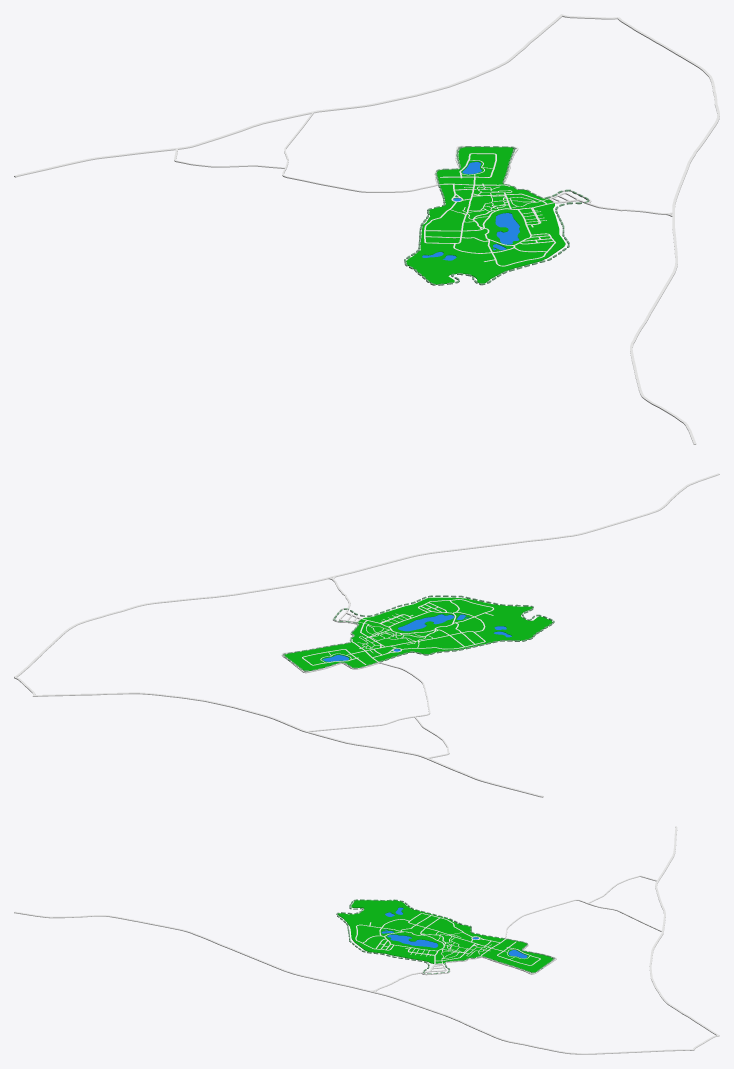
3 renders of one model, top to bottom at view 1: azimuth 30°, elevation 25°; view 2: azimuth 150°, elevation 25°; view 3: azimuth 270°, elevation 25°, orthographic. The views are drawn at different scales.
Parts seen in each view (by area): view 1: green, R8, R4, R2, LK, water, R11; view 2: green, R8, R2, R4, LK, water, R11; view 3: green, R8, R2, LK, R4, water, R11.
Boxes of the visible parts, bbox=[...] form: green: bbox=[406, 147, 565, 284]; R8: bbox=[175, 112, 591, 266]; R4: bbox=[14, 14, 618, 177]; R2: bbox=[617, 17, 719, 444]; LK: bbox=[404, 146, 589, 285]; water: bbox=[422, 162, 519, 260]; R11: bbox=[450, 160, 549, 223]; green: bbox=[284, 597, 552, 670]; R8: bbox=[281, 599, 493, 753]; R2: bbox=[14, 473, 719, 677]; R4: bbox=[14, 677, 543, 797]; LK: bbox=[282, 595, 554, 671]; water: bbox=[323, 614, 511, 661]; R11: bbox=[320, 613, 432, 662]; green: bbox=[338, 900, 552, 972]; R8: bbox=[355, 875, 662, 975]; R2: bbox=[14, 911, 693, 1054]; LK: bbox=[336, 899, 554, 973]; R4: bbox=[649, 826, 719, 1050]; water: bbox=[381, 907, 527, 958]; R11: bbox=[409, 931, 529, 963].
Bounding box in the file's own units: 26.26 × 0.0502 × 34.39.
